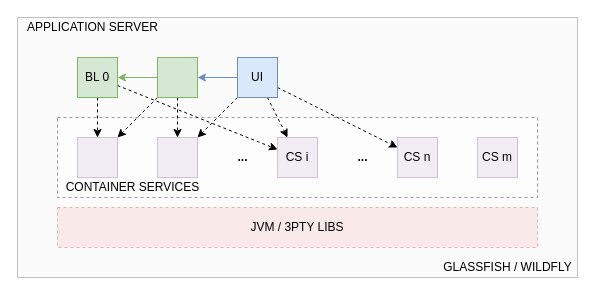
The diagram is 595 pixels wide and 295 high, and some of its shapes have lost their labels. Here are the shapes that lost their labels. From the top down, the centre of each, then its label:
At point 177,77: "BL 1".
At point 97,157: "CS 0".
At point 177,157: "CS 1".
